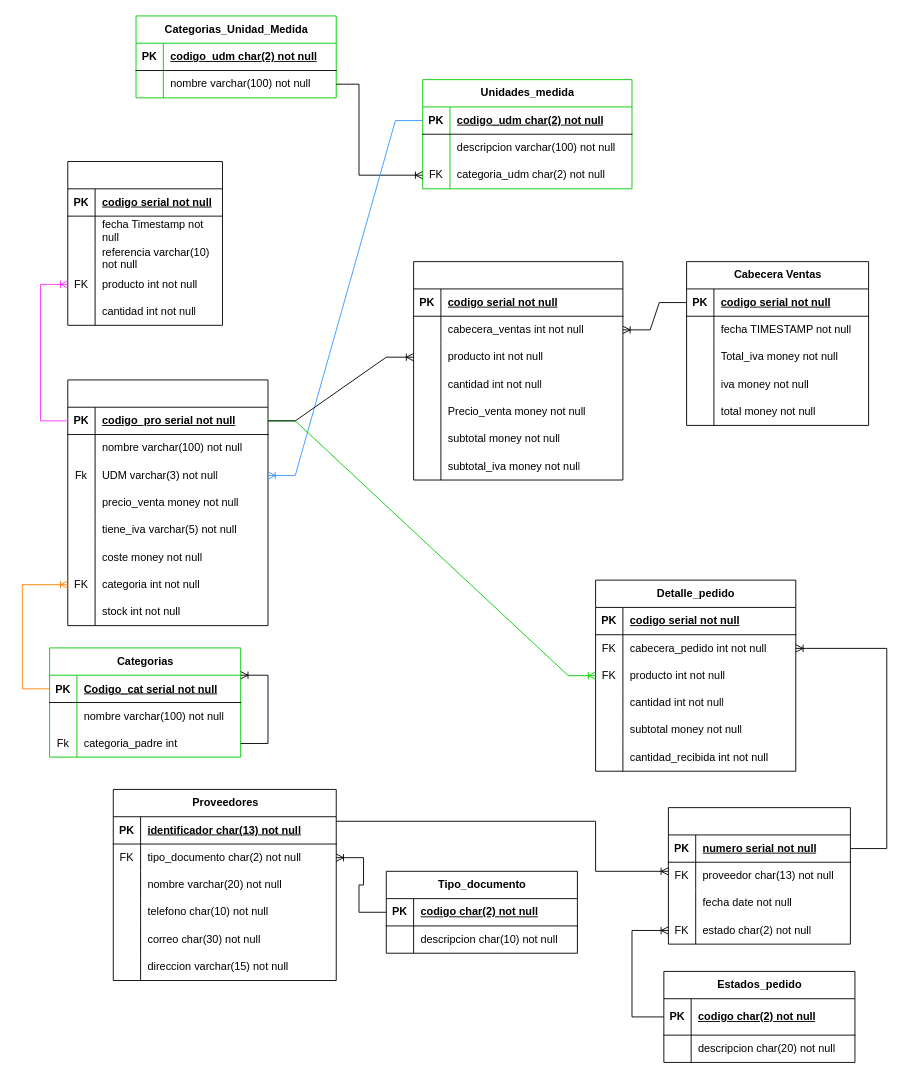
The diagram is 910 pixels wide and 1078 high, and some of its shapes have lost their labels. The shapes that lost their labels are listed below. From the top down, each one's box as (x1, y1, x2, y2) in pixels, then its label:
(67, 161, 222, 325): Historial_stock
(413, 261, 623, 480): Detalles_ventas
(67, 379, 268, 626): Productos
(667, 807, 850, 944): Cabecera_pedido
